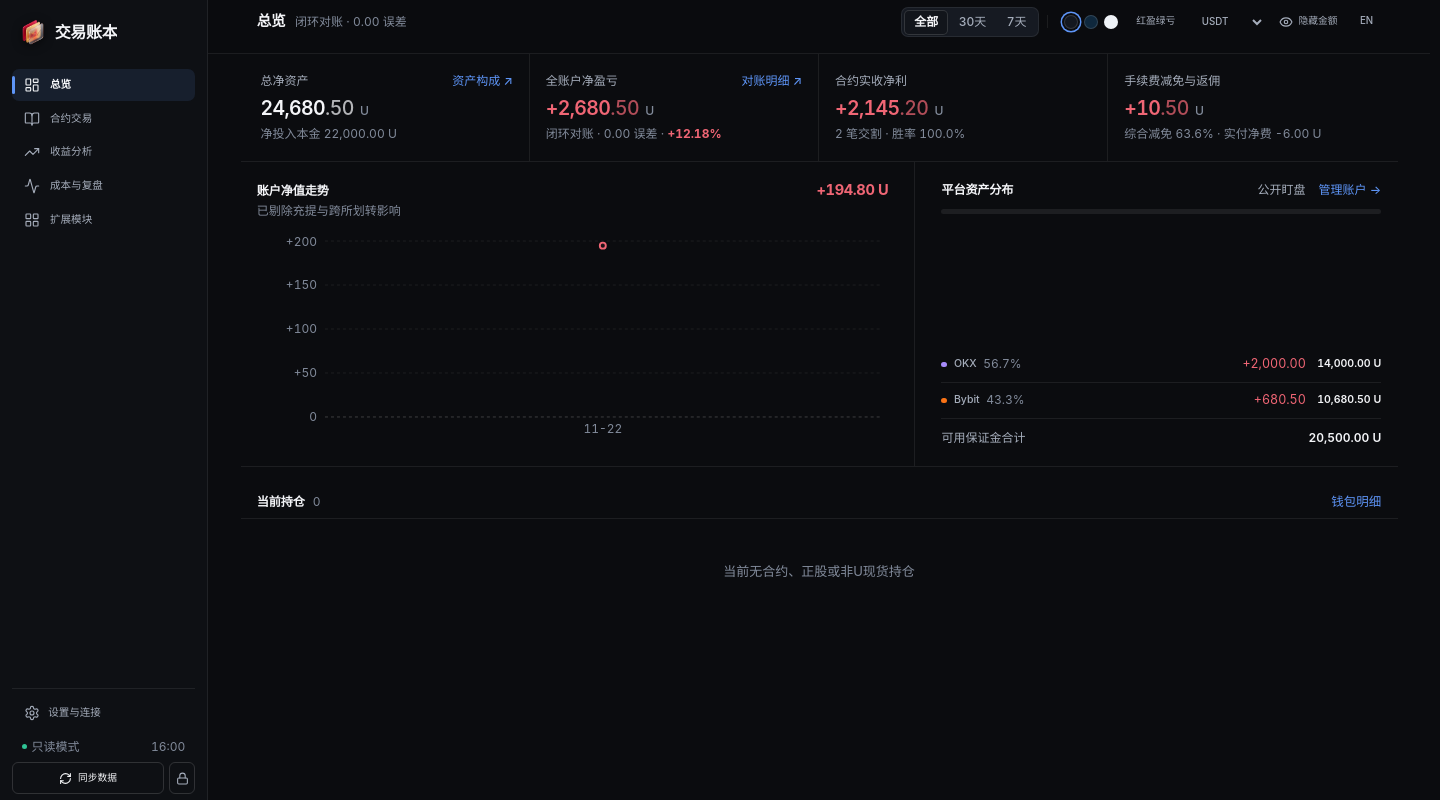
Test case: ledger access and settings races › shows the password change receipt after reloading private settings
Click the button with test id "nav-settings": [104, 713] box [12,697,195,729]
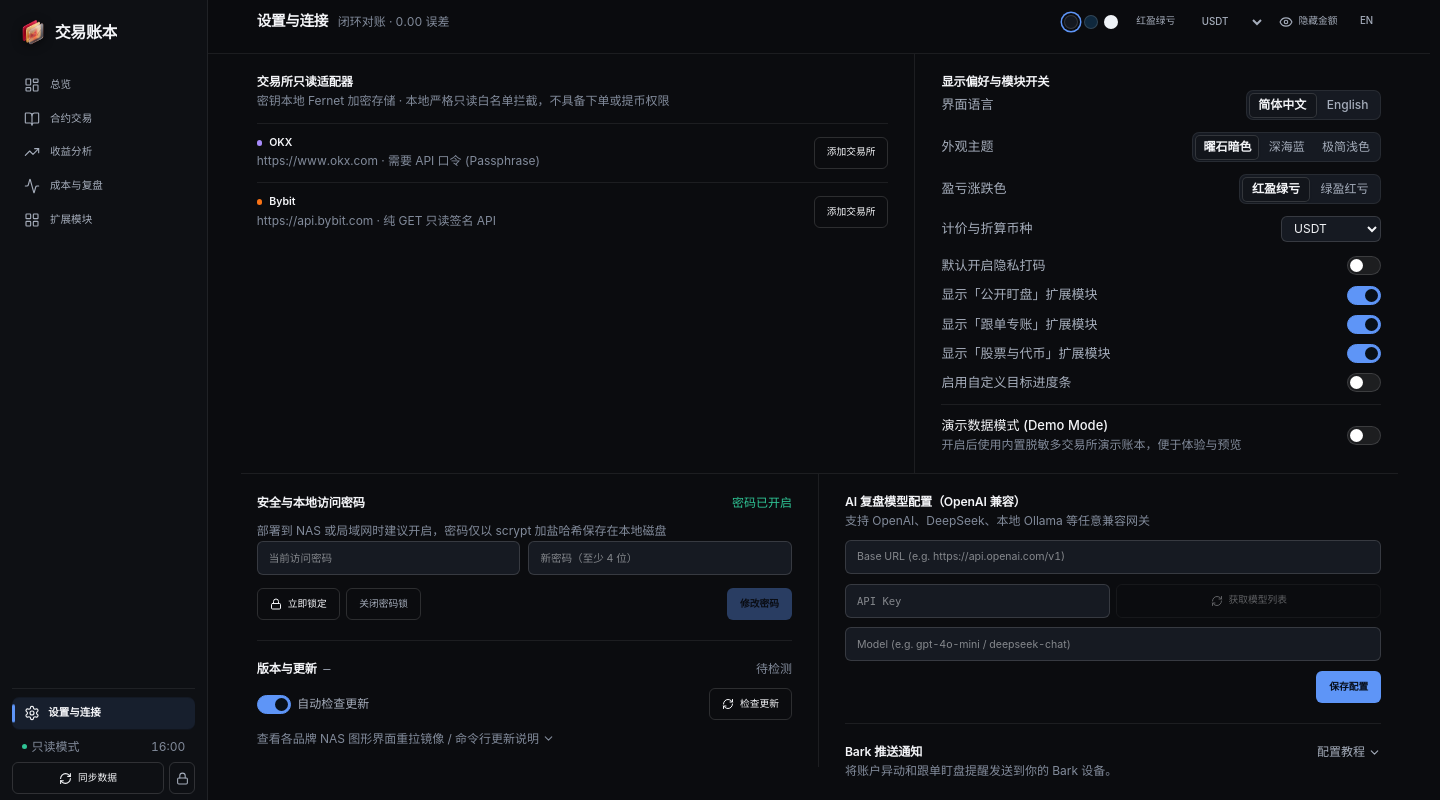
In the password field with test id "sec-current-pwd": [389, 558] box [257,541,520,575], type "old password"
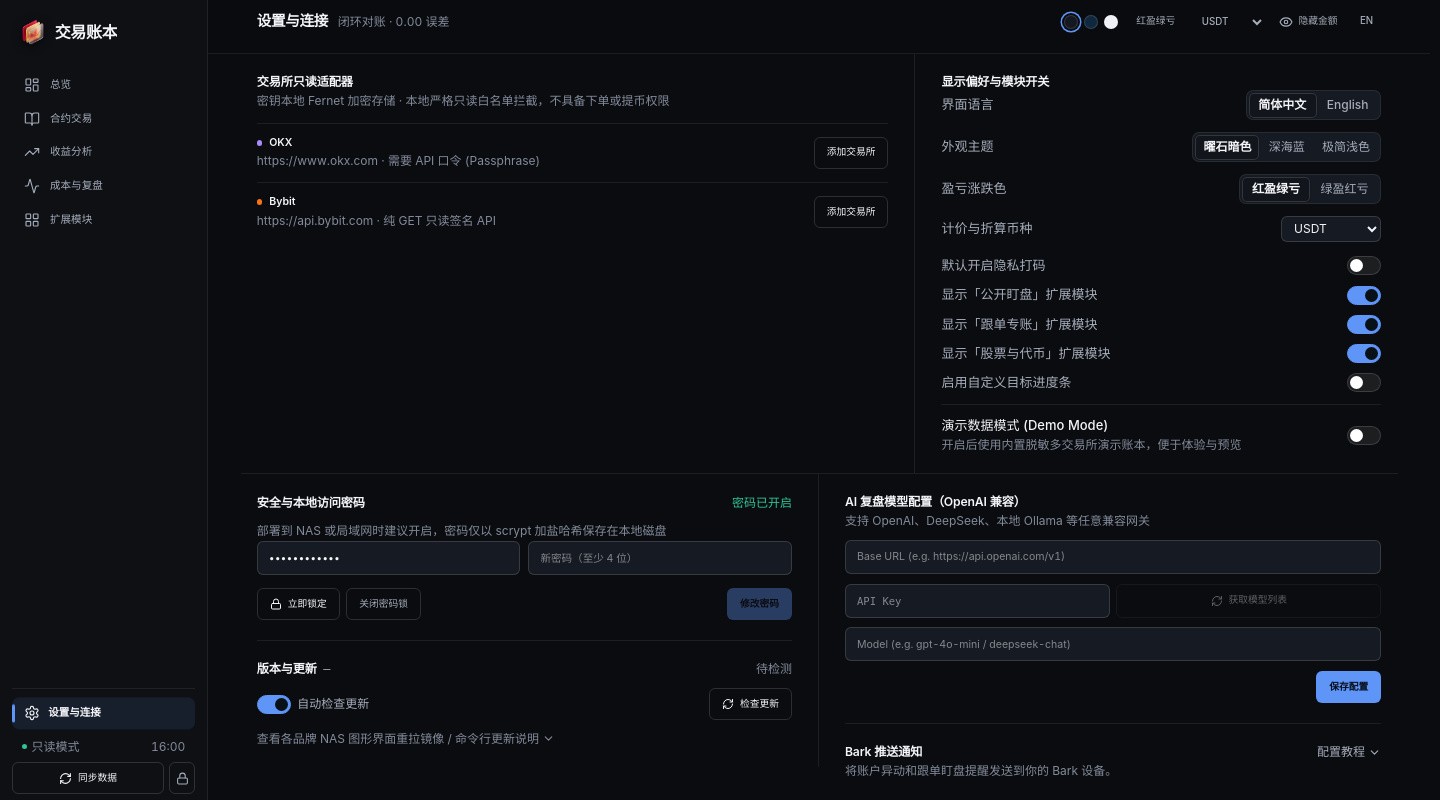
In the password field with test id "sec-new-pwd": [660, 558] box [528,541,792,575], type "new password"
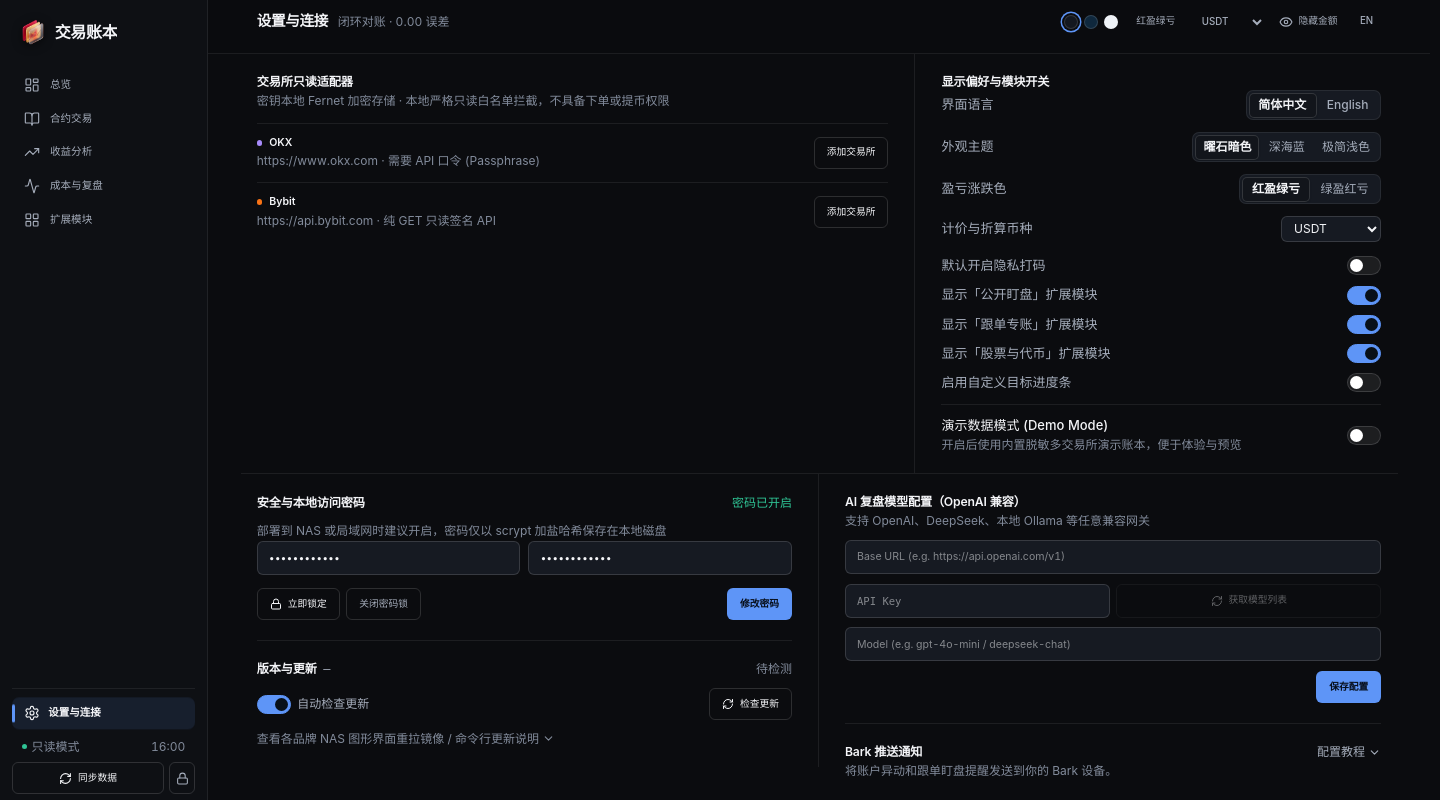
Click the button with test id "sec-save-pwd-btn": [760, 604] box [727,588,792,620]
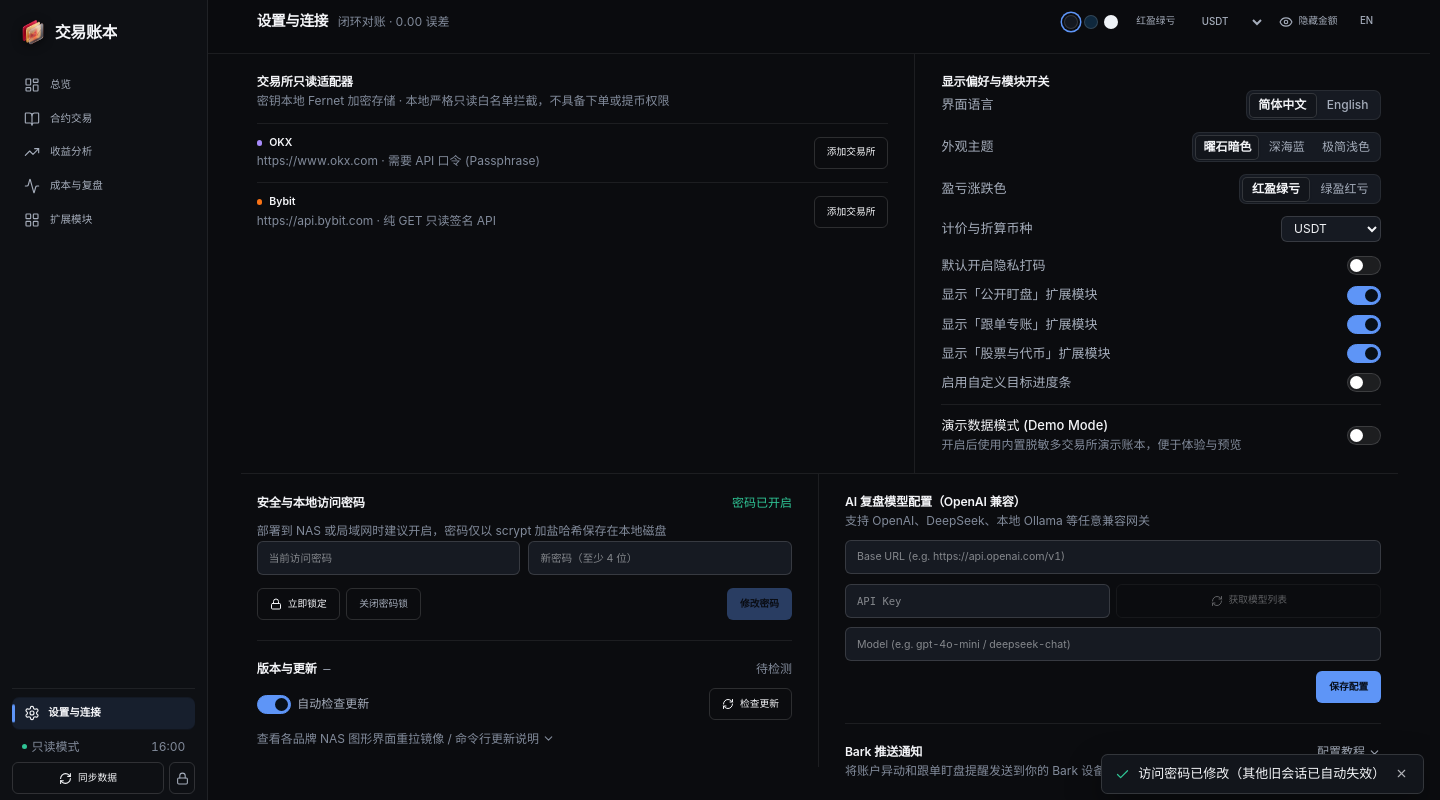
Now the message with test id "settings-ok-banner" reads "访问密码已修改（其他旧会话已自动失效）", box [1138,765,1385,781]
Now the password field with test id "sec-current-pwd" is empty, box [257,541,520,575]
